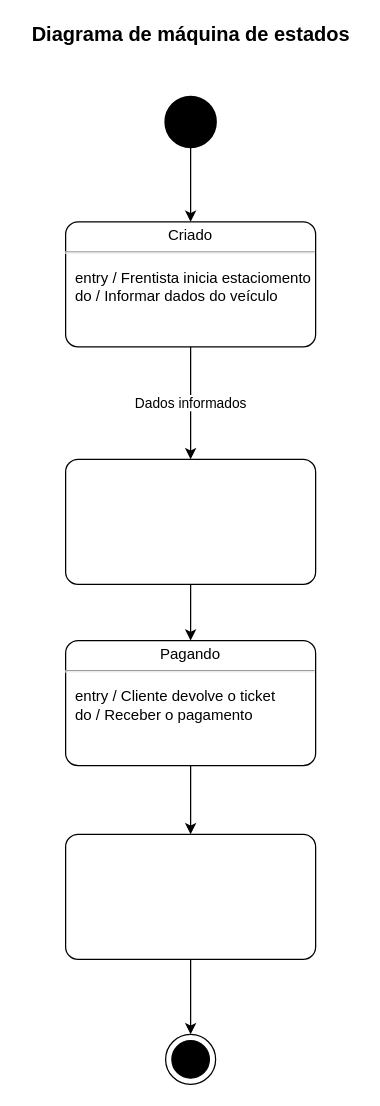
Some shapes in this 380 by 1106 pixel diagram are drawn without their labels. Here are the shapes that lost their labels. From the top down, the centre of each, then its label:
point 190,521: Aberto entry / imprimir o ticket
point 190,896: Fechado do / Imprimir o recibo
